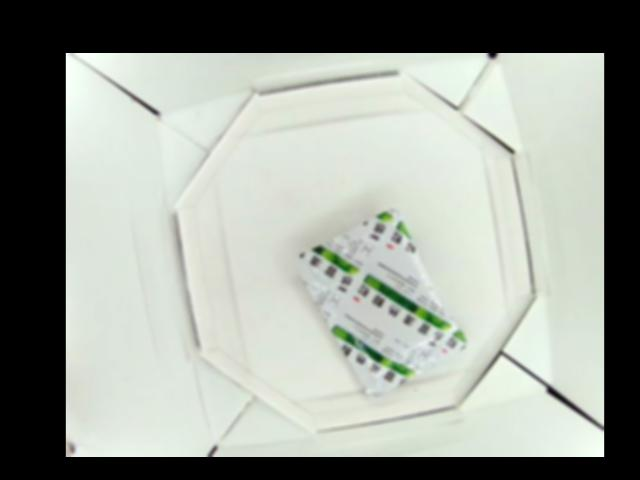Medicine: (298, 207, 469, 398)
